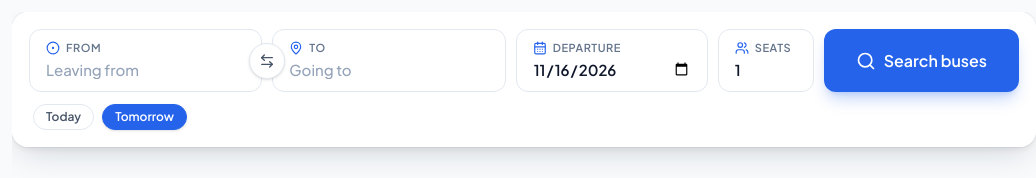
it: SearchWidget › navigates to results with the search in the URL
In the field labelled "From": (146,69) x1=46 y1=56 x2=245 y2=81, type "Bengaluru"
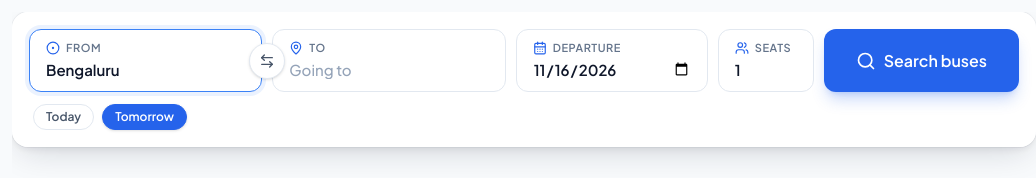
In the field labelled "To": (389,69) x1=289 y1=56 x2=489 y2=81, type "Chennai"
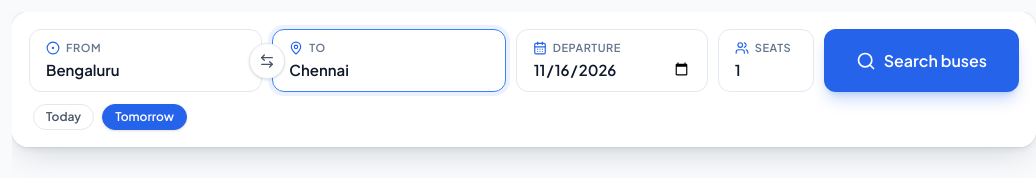
Click the button "Search buses": (921,60) x1=824 y1=29 x2=1019 y2=92
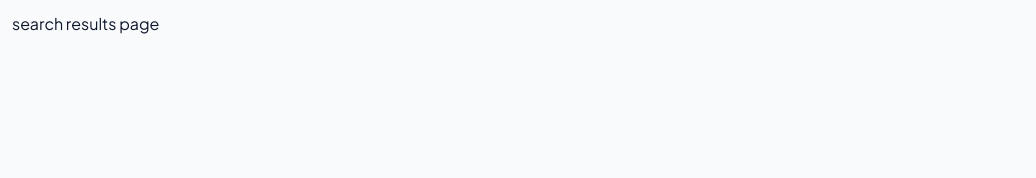
Expected: the text "search results page" is shown, x1=12 y1=13 x2=159 y2=34
